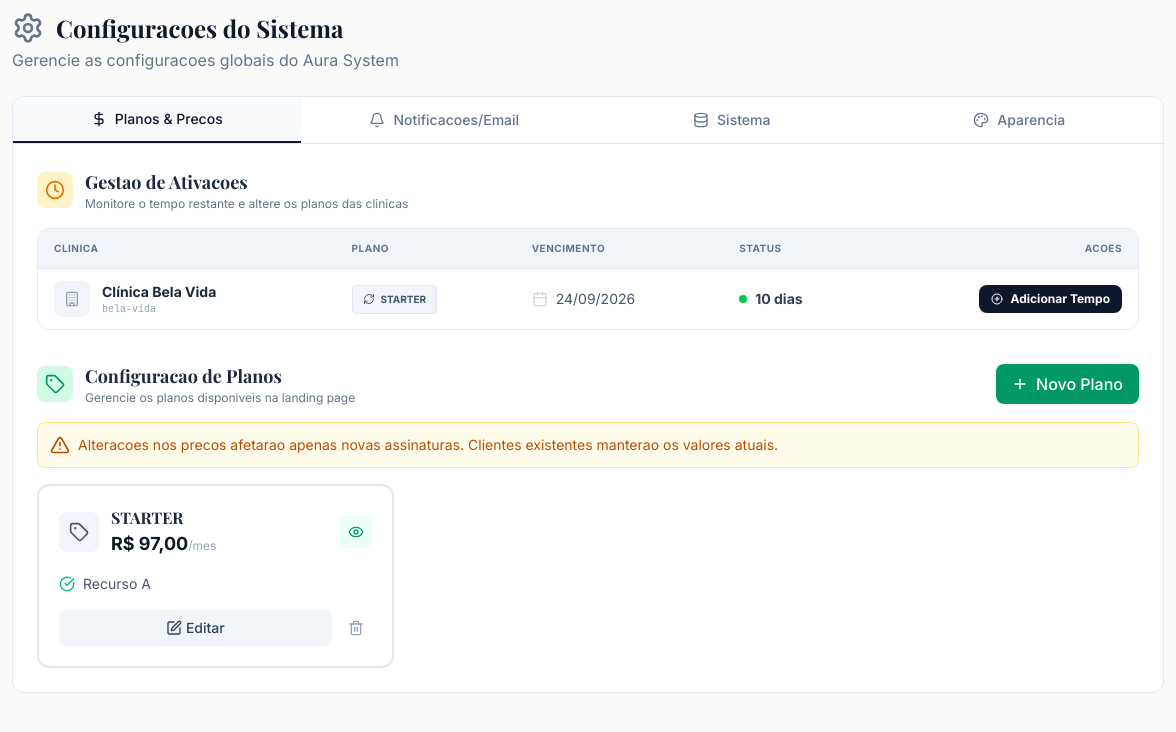
Scenario: pages/king/KingSettings — navegação por abas › troca para a aba Sistema
Step 1. Click the button "Sistema" → (732, 120), box [588,97,876,143]
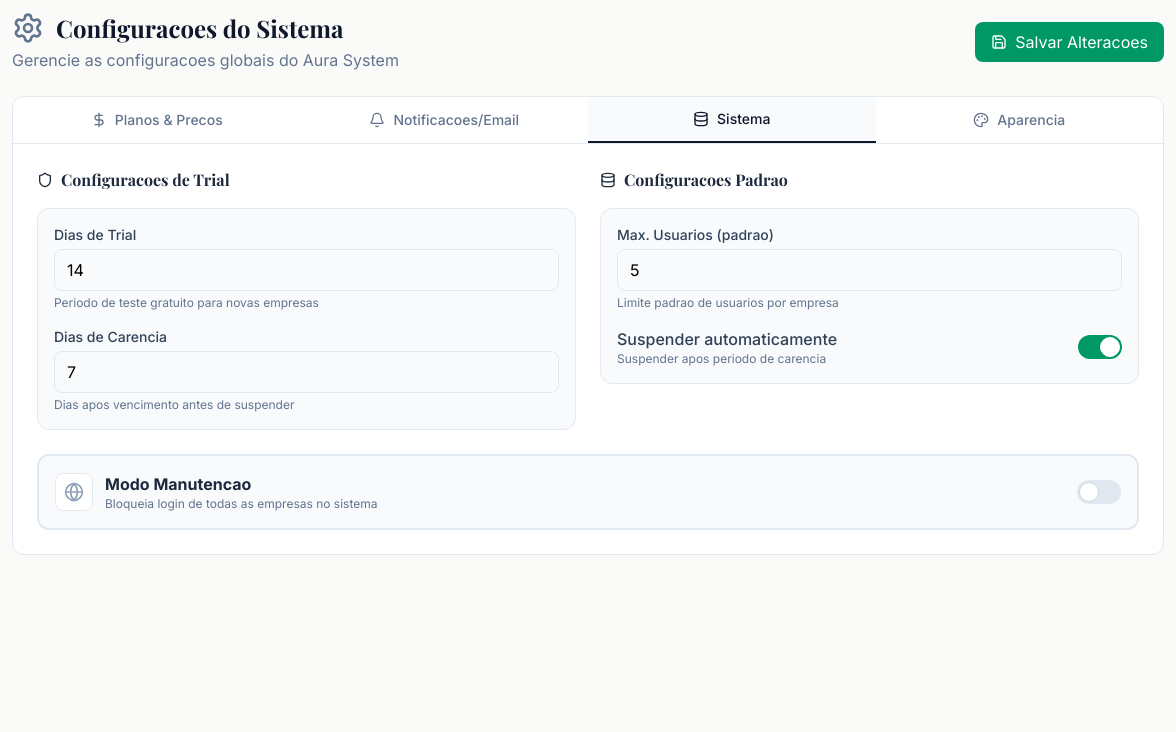
Expected: the heading "Configuracoes de Trial" is shown, [37,169,230,190]
